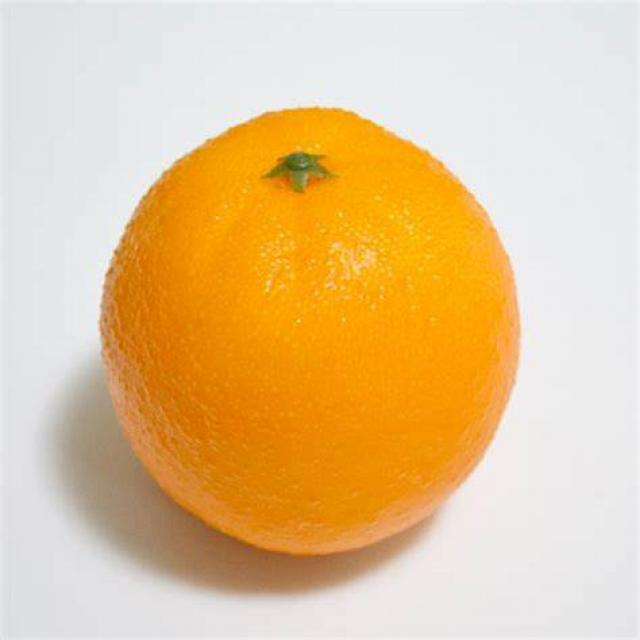Orange: (96, 98, 522, 559)
